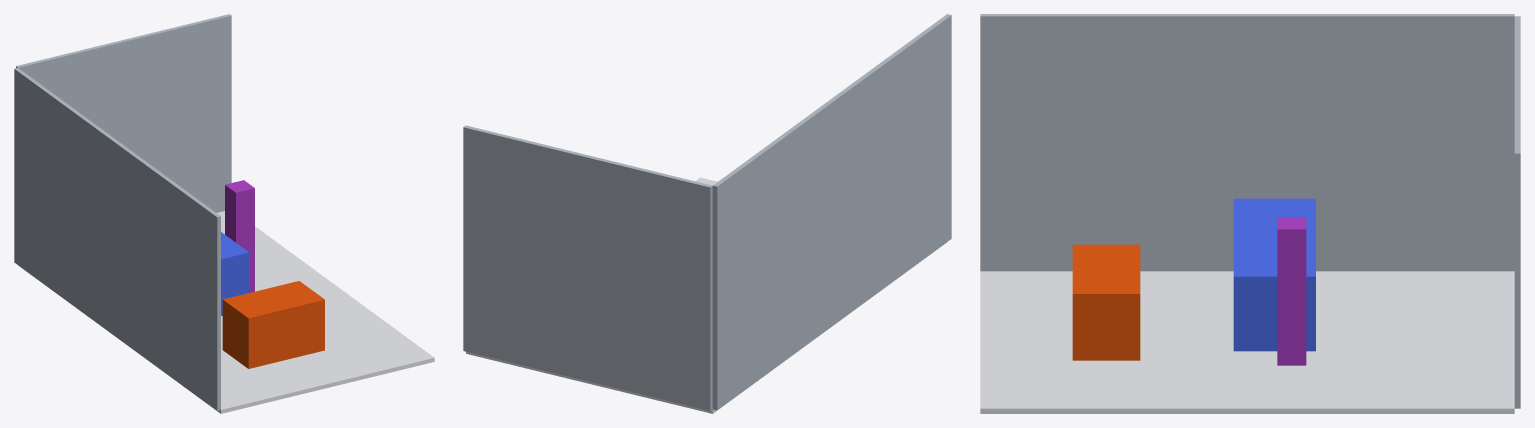
Rendered from room.obj.
3 renders of one model, left to right at view 1: azimuth 30°, elevation 25°; view 2: azimuth 150°, elevation 25°; view 3: azimuth 270°, elevation 25°, orthographic. The views are drawn at different scales.
Visible parts, largest first — view 1: wall_west, wall_north, floor, B0BK8QZ8RR, B0DRTV3XDT, B0FR3WVLTS; view 2: wall_north, wall_west, floor; view 3: wall_west, floor, B0FR3WVLTS, B0BK8QZ8RR, B0DRTV3XDT, wall_north.
Boxes of the visible parts, left/top/right/bottom form: wall_west: left=14, top=68, right=220, bottom=410; wall_north: left=16, top=14, right=231, bottom=212; floor: left=18, top=211, right=434, bottom=413; B0BK8QZ8RR: left=222, top=281, right=324, bottom=368; B0DRTV3XDT: left=225, top=180, right=254, bottom=292; B0FR3WVLTS: left=221, top=232, right=249, bottom=315; wall_north: left=463, top=125, right=712, bottom=410; wall_west: left=712, top=14, right=951, bottom=410; floor: left=466, top=177, right=946, bottom=413; wall_west: left=980, top=14, right=1514, bottom=271; floor: left=980, top=271, right=1514, bottom=413; B0FR3WVLTS: left=1233, top=198, right=1315, bottom=351; B0BK8QZ8RR: left=1072, top=244, right=1140, bottom=360; B0DRTV3XDT: left=1277, top=217, right=1306, bottom=365; wall_north: left=1514, top=16, right=1520, bottom=408.
Bounding box in the file's own units: 3.41 × 2.96 × 5.57.
